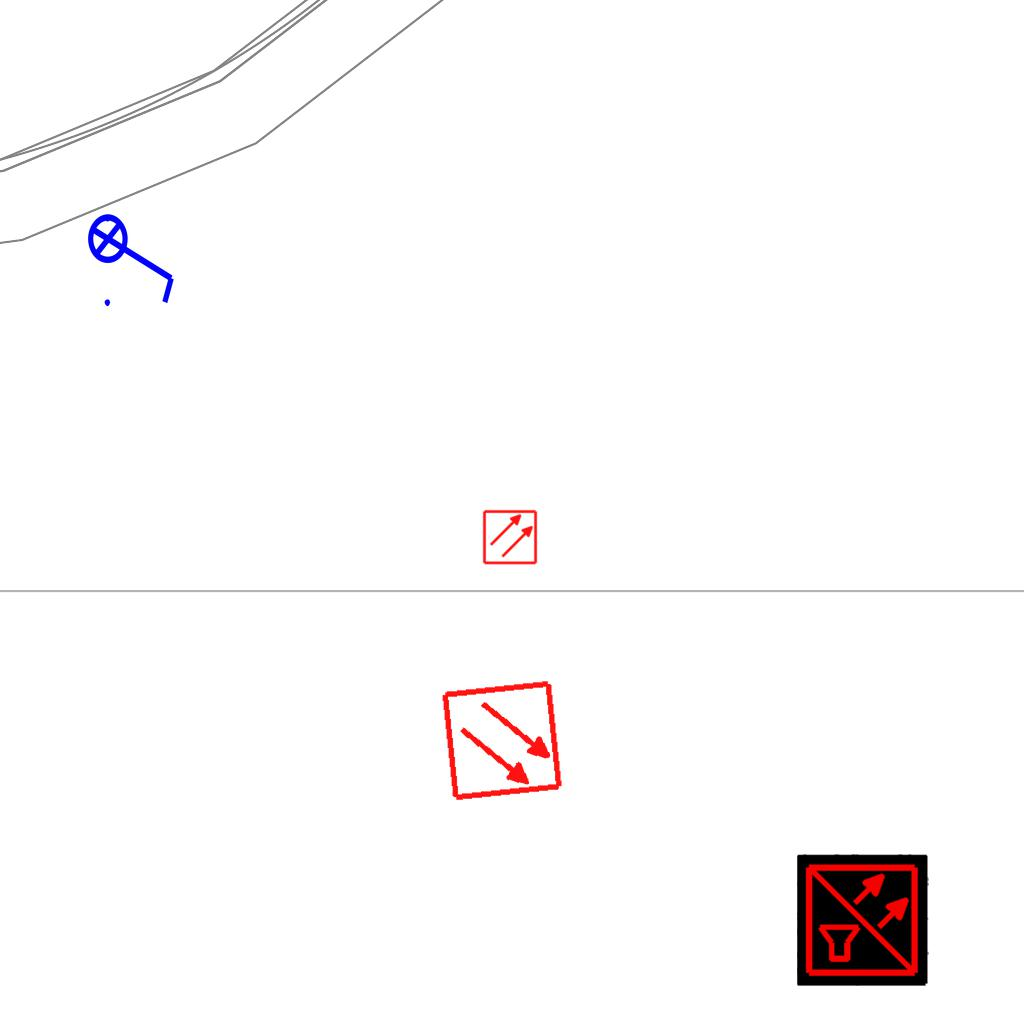Ausschalter_beleuchtet: (86, 200, 182, 312)
OKW_Multisensormelder_(Kombination_optischer_Rauch-Kahlenmonoxid_Waerme-Melder): (797, 854, 929, 986)
RMO_Rauchmelder_optischer: (440, 678, 565, 803), (482, 509, 538, 565)
